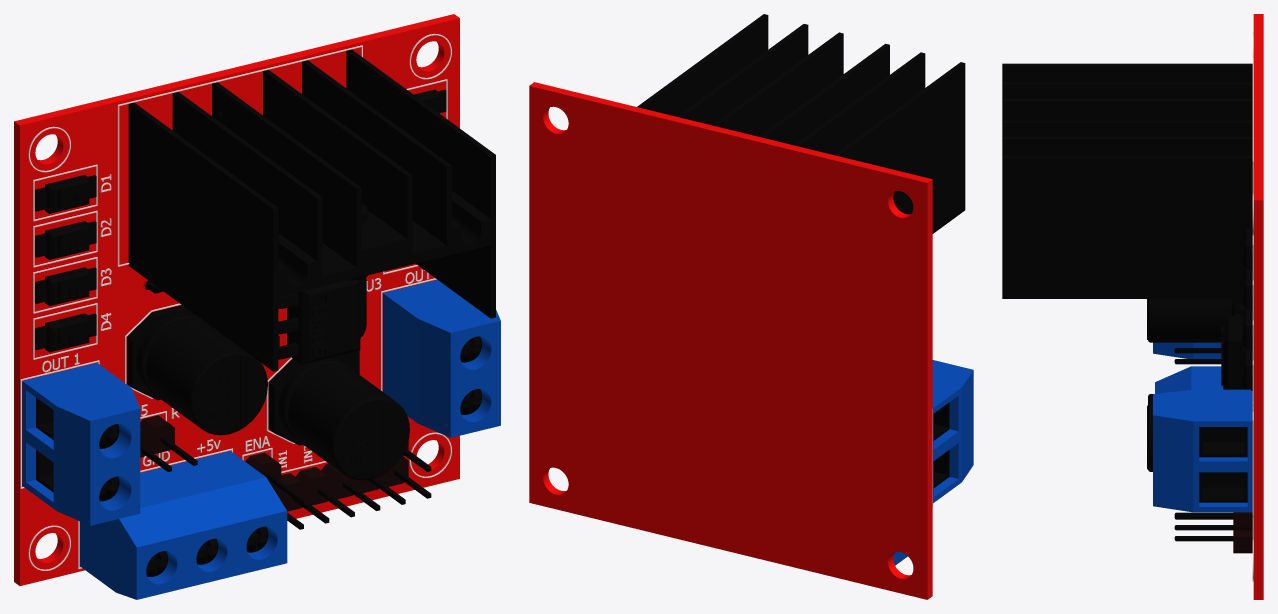
Rendered from Ponte H v1.fbx.
3 renders of one model, left to right at view 1: azimuth 30°, elevation 25°; view 2: azimuth 150°, elevation 25°; view 3: azimuth 270°, elevation 25°, orthographic. The views are drawn at different scales.
Parts seen in each view (by area): view 1: Body1; view 2: Body1; view 3: Body1.
Part boxes in pixels (<box>): Body1: <box>14,14,500,599</box>; Body1: <box>529,14,973,599</box>; Body1: <box>1002,14,1263,599</box>.
Bounding box in the file's own units: 43.9 × 43.9 × 26.
